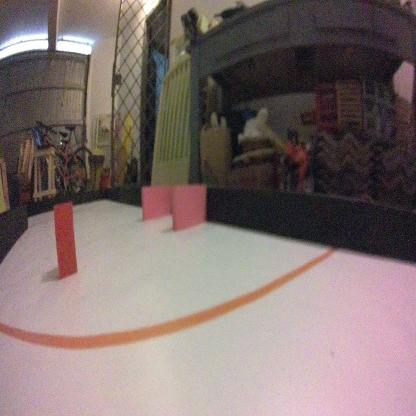magenta: (170, 182, 206, 234), (138, 182, 174, 219)
red: (53, 201, 78, 276)
